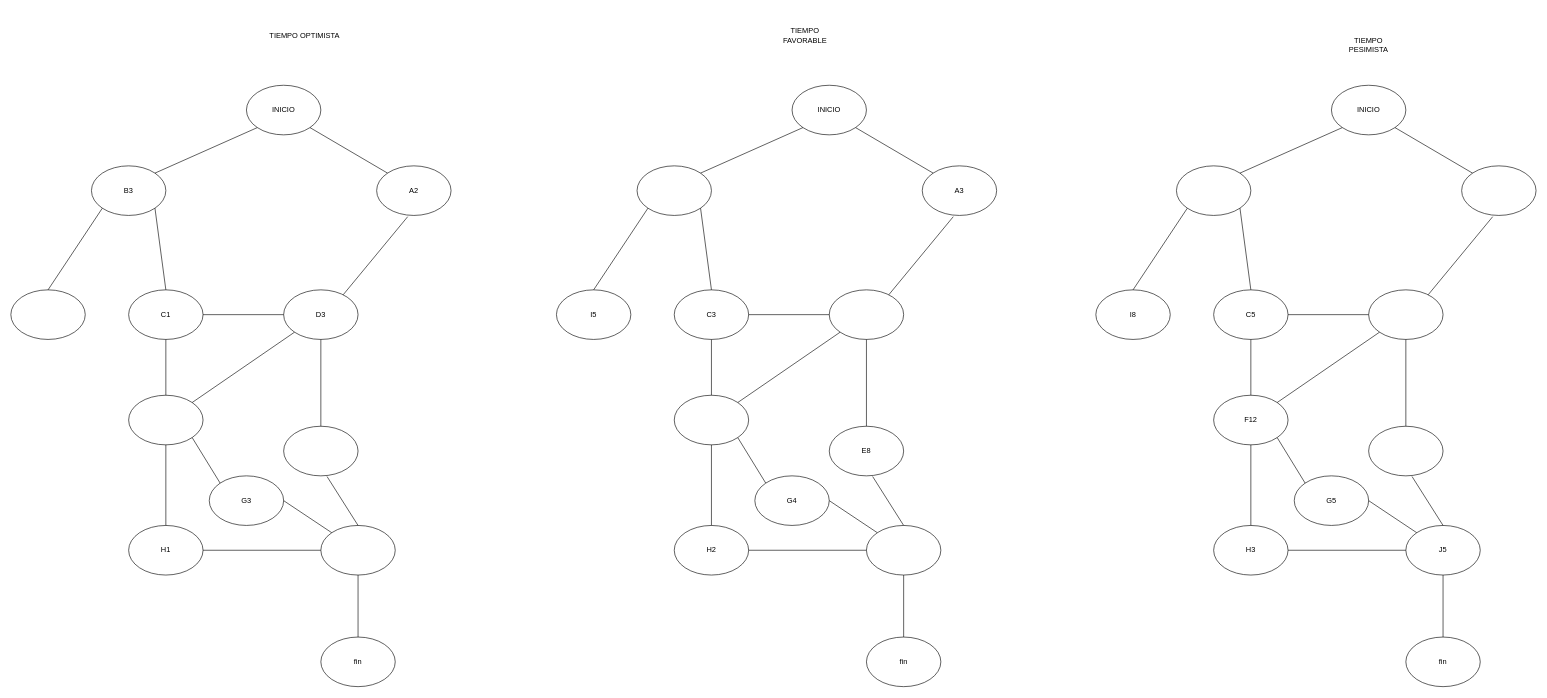
This 1547x698 diagram has some shape labels left out. The shapes that lost their labels are listed below. From the top down, each one's box as (x1, y1, x2, y2) in pixels, then its label:
(636, 165, 711, 215): B5
(1176, 165, 1251, 215): B7
(1461, 165, 1536, 215): A4
(10, 289, 85, 339): I2
(829, 289, 904, 339): D4
(1368, 289, 1443, 339): D5
(128, 395, 203, 445): F1
(674, 395, 749, 445): F2
(283, 426, 358, 476): E4
(1368, 426, 1443, 476): E3
(320, 525, 395, 575): J1
(866, 525, 941, 575): J3
